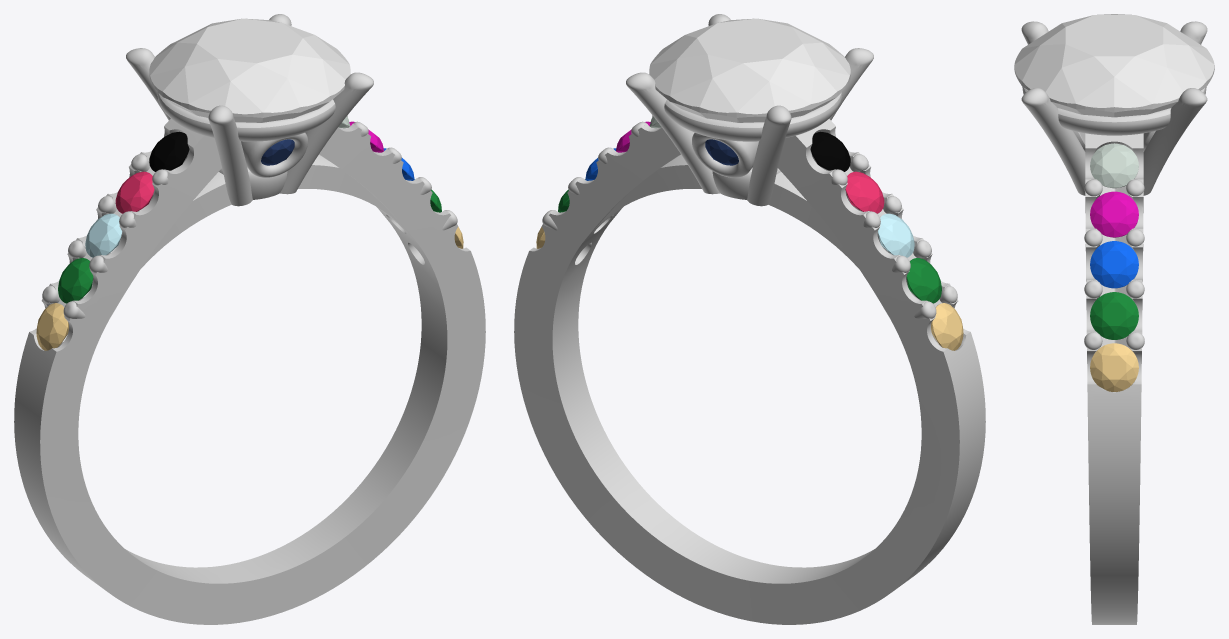
The model's file is V2JamesPTlower.glb.
3 views of the same model, side by side, from view 1: azimuth 30°, elevation 25°; view 2: azimuth 150°, elevation 25°; view 3: azimuth 270°, elevation 25° (orthographic).
Parts seen in each view (by area): view 1: V2 PT for 3d model, V2 dia for 3d model, V2 James aqua for 3d model, V2 James ruby for 3d model, V2 James black dia for 3d model, V2 James jade for 3d model, V2 James spessartine garnet for 3d model; view 2: V2 PT for 3d model, V2 dia for 3d model, V2 James aqua for 3d model, V2 James ruby for 3d model, V2 James black dia for 3d model, V2 James jade for 3d model, V2 James spessartine garnet for 3d model; view 3: V2 PT for 3d model, V2 dia for 3d model, V2 James spessartine garnet right side for 3d model, V2 James tsavorite for 3d model, V2 James sapph for 3d model, V2 James pink tourmaline for 3d model, V2 James labradorite for 3d model.
Part boxes in pixels (left/top/right/bottom): V2 PT for 3d model: left=14, top=14, right=485, bottom=624; V2 dia for 3d model: left=149, top=18, right=350, bottom=122; V2 James aqua for 3d model: left=85, top=213, right=122, bottom=257; V2 James ruby for 3d model: left=115, top=171, right=154, bottom=213; V2 James black dia for 3d model: left=149, top=131, right=189, bottom=171; V2 James jade for 3d model: left=58, top=258, right=93, bottom=303; V2 James spessartine garnet for 3d model: left=36, top=303, right=68, bottom=350; V2 PT for 3d model: left=514, top=14, right=985, bottom=624; V2 dia for 3d model: left=649, top=18, right=850, bottom=122; V2 James aqua for 3d model: left=878, top=213, right=914, bottom=257; V2 James ruby for 3d model: left=845, top=171, right=884, bottom=213; V2 James black dia for 3d model: left=810, top=131, right=850, bottom=171; V2 James jade for 3d model: left=906, top=258, right=941, bottom=303; V2 James spessartine garnet for 3d model: left=931, top=303, right=963, bottom=350; V2 PT for 3d model: left=1021, top=21, right=1207, bottom=624; V2 dia for 3d model: left=1014, top=14, right=1214, bottom=117; V2 James spessartine garnet right side for 3d model: left=1090, top=343, right=1138, bottom=391; V2 James tsavorite for 3d model: left=1090, top=292, right=1138, bottom=339; V2 James sapph for 3d model: left=1090, top=241, right=1138, bottom=288; V2 James pink tourmaline for 3d model: left=1090, top=191, right=1138, bottom=237; V2 James labradorite for 3d model: left=1090, top=143, right=1138, bottom=188.
Bounding box in the file's own units: 20.94 × 25.57 × 8.2.
